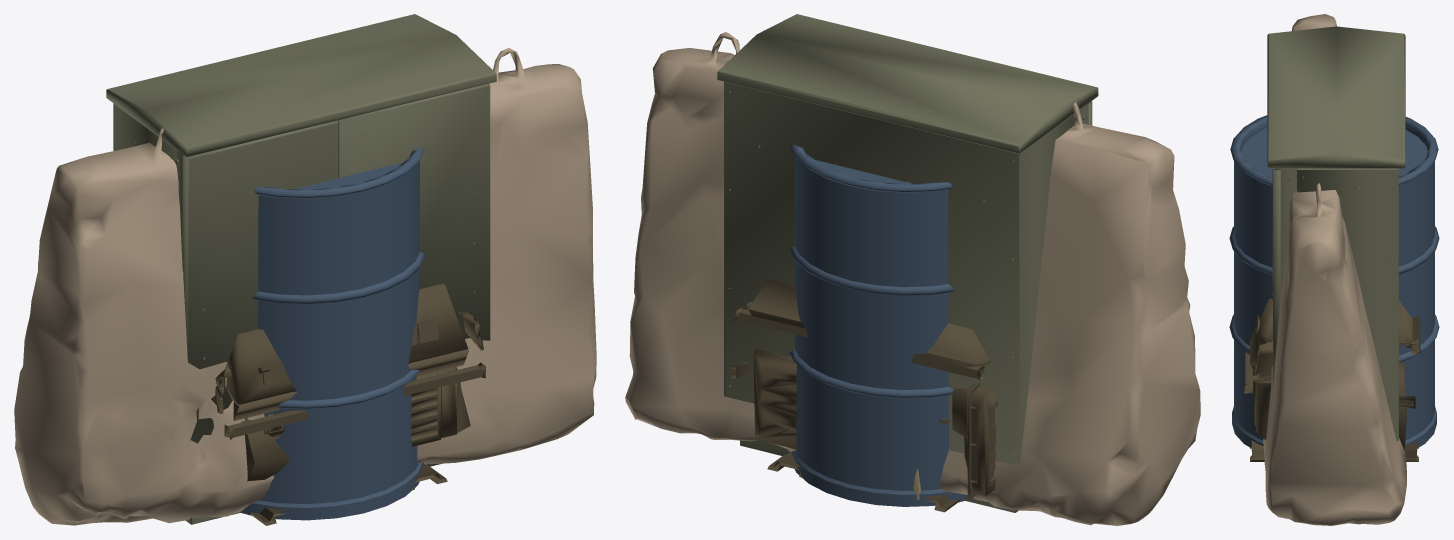
File: props-industrial.glb
3 renders of one model, left to right at view 1: azimuth 30°, elevation 25°; view 2: azimuth 150°, elevation 25°; view 3: azimuth 270°, elevation 25°, orthographic. The views are drawn at different scales.
Parts seen in each view (by area): view 1: road-barrier_LOD0, utility-box_LOD0, barrel-blue_LOD0, generator_LOD0; view 2: road-barrier_LOD0, utility-box_LOD0, barrel-blue_LOD0, generator_LOD0; view 3: road-barrier_LOD0, utility-box_LOD0, barrel-blue_LOD0, generator_LOD0.
Boxes of the visible parts, x1=… form: road-barrier_LOD0: x1=14, y1=48, x2=596, y2=525; utility-box_LOD0: x1=106, y1=14, x2=496, y2=524; barrel-blue_LOD0: x1=241, y1=147, x2=425, y2=520; generator_LOD0: x1=215, y1=283, x2=485, y2=525; road-barrier_LOD0: x1=625, y1=32, x2=1200, y2=525; utility-box_LOD0: x1=717, y1=14, x2=1098, y2=512; barrel-blue_LOD0: x1=789, y1=144, x2=964, y2=506; generator_LOD0: x1=730, y1=279, x2=997, y2=512; road-barrier_LOD0: x1=1263, y1=14, x2=1406, y2=525; utility-box_LOD0: x1=1267, y1=26, x2=1405, y2=441; barrel-blue_LOD0: x1=1229, y1=115, x2=1439, y2=447; generator_LOD0: x1=1244, y1=298, x2=1420, y2=461.
Size of what is drawn, in the model's own units: 1.56 by 1.12 by 0.6386.
